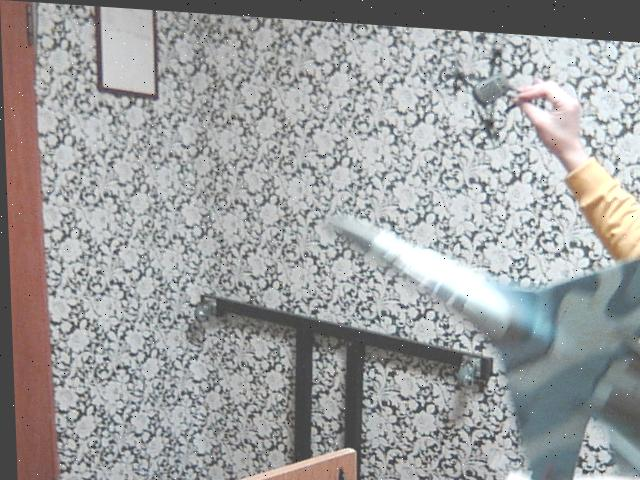drone: (427, 29, 586, 150)
